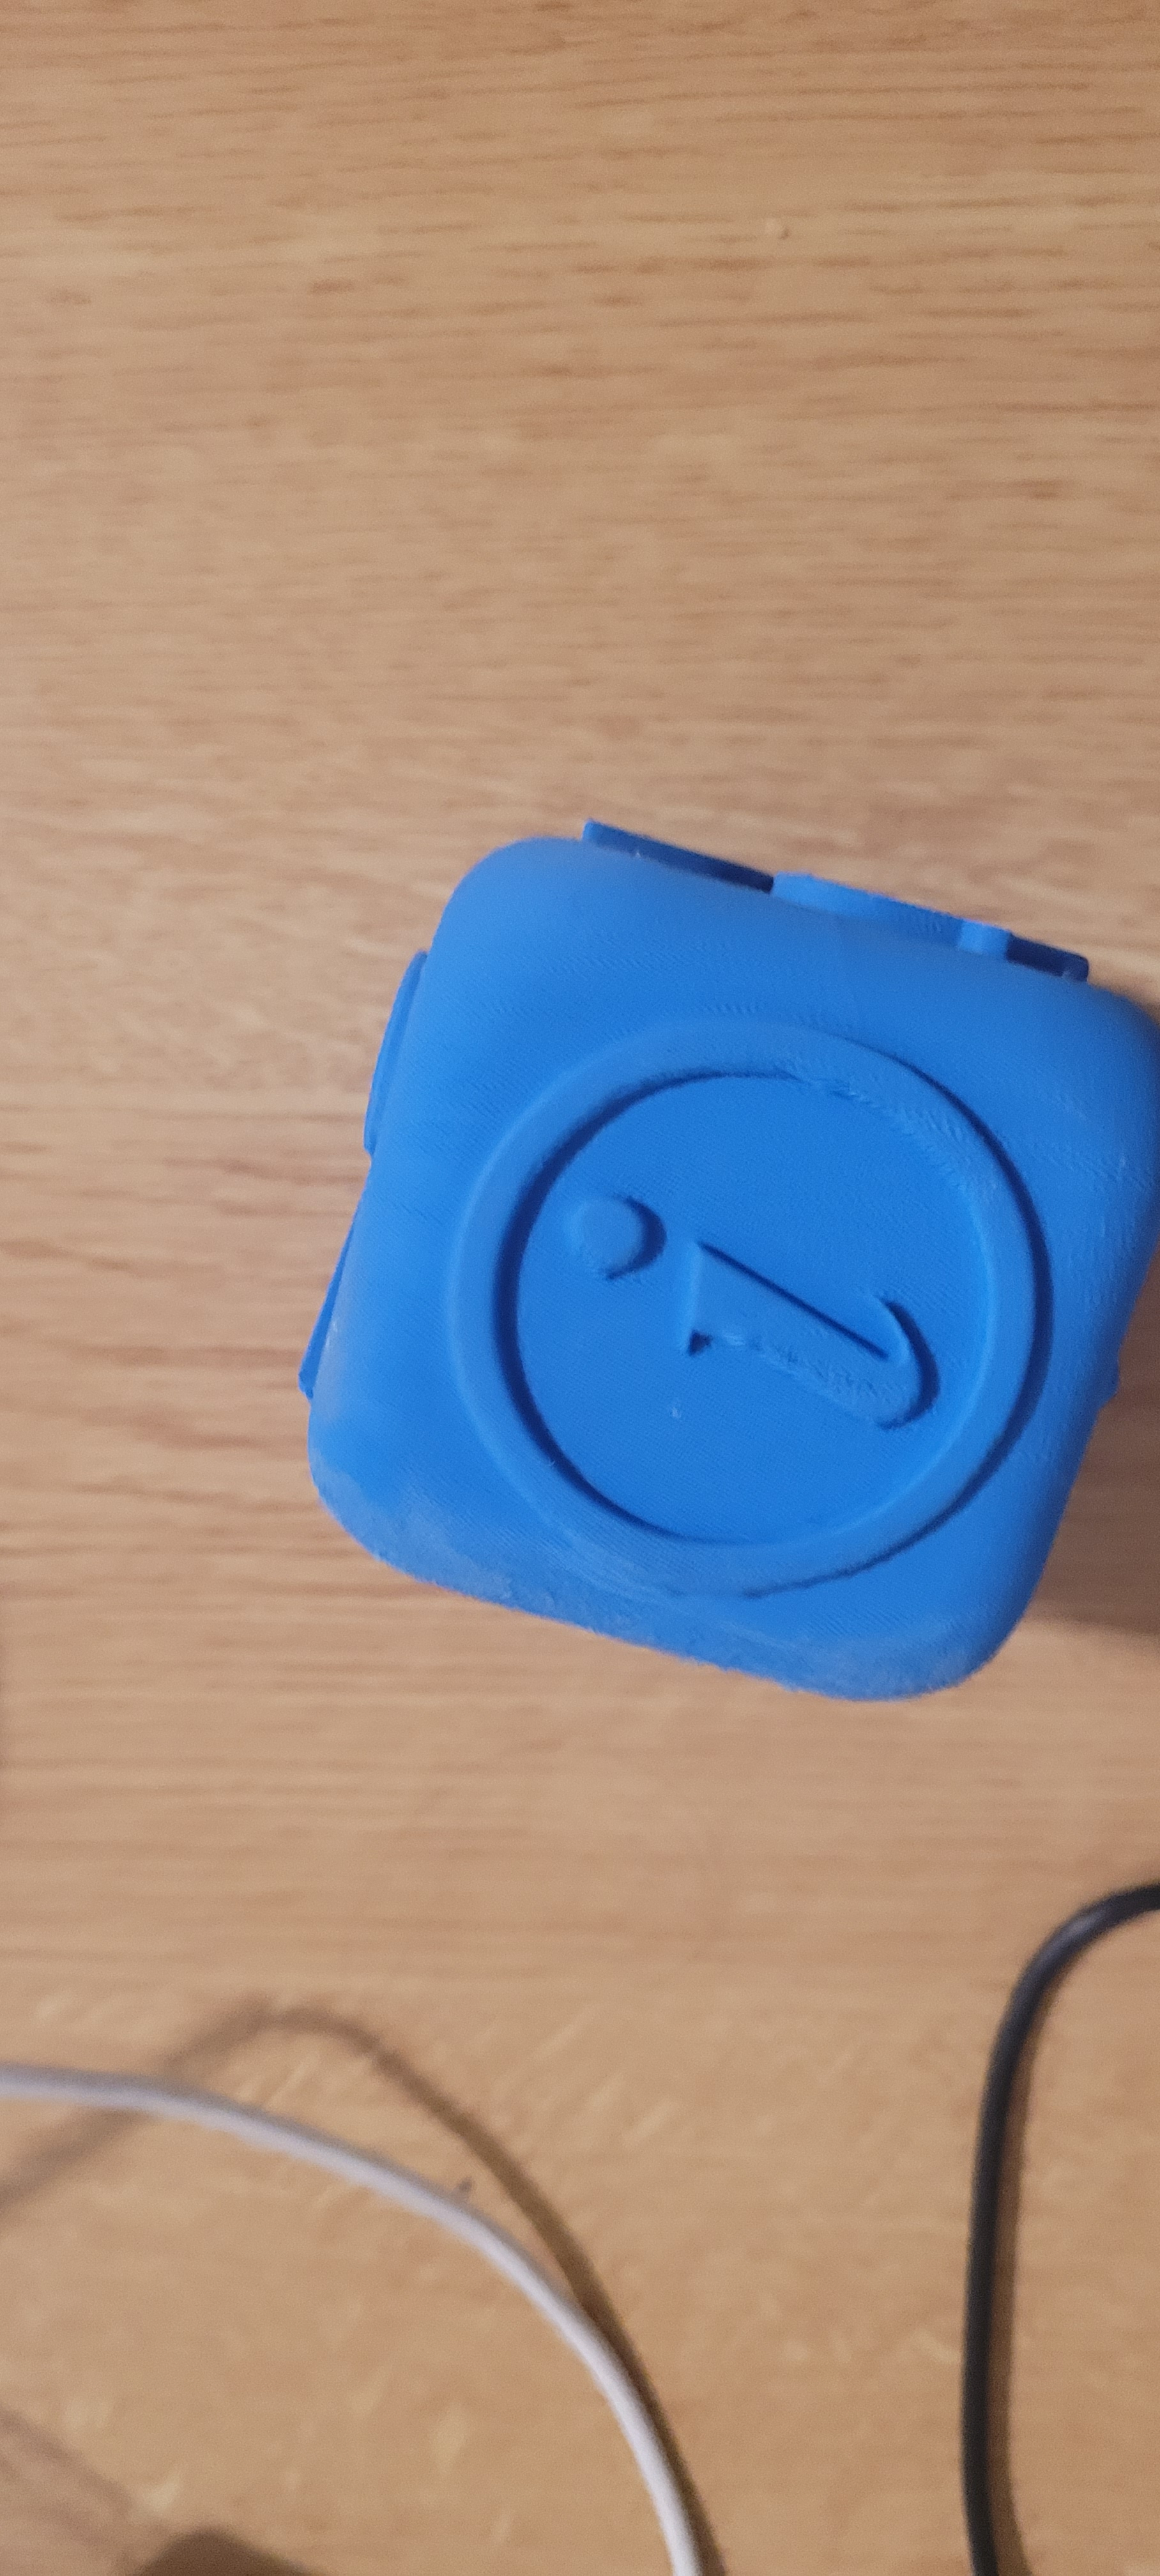Info: (463, 940, 1052, 1656)
